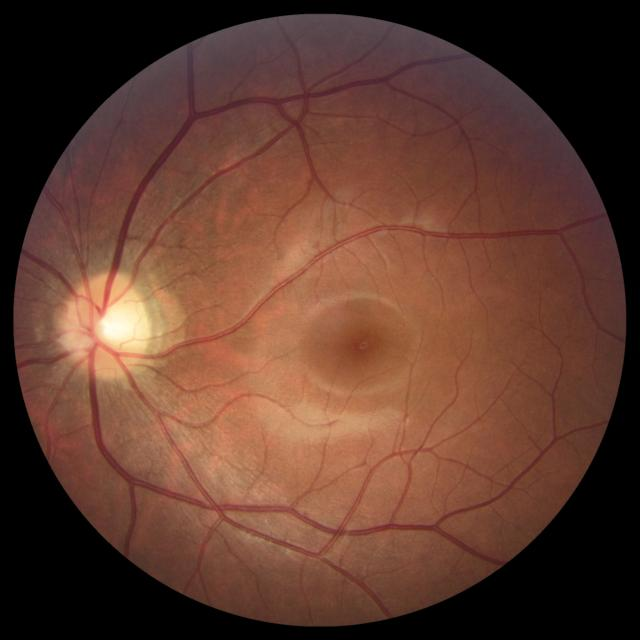OC: (92, 301, 140, 351)
OD: (61, 272, 152, 378)
